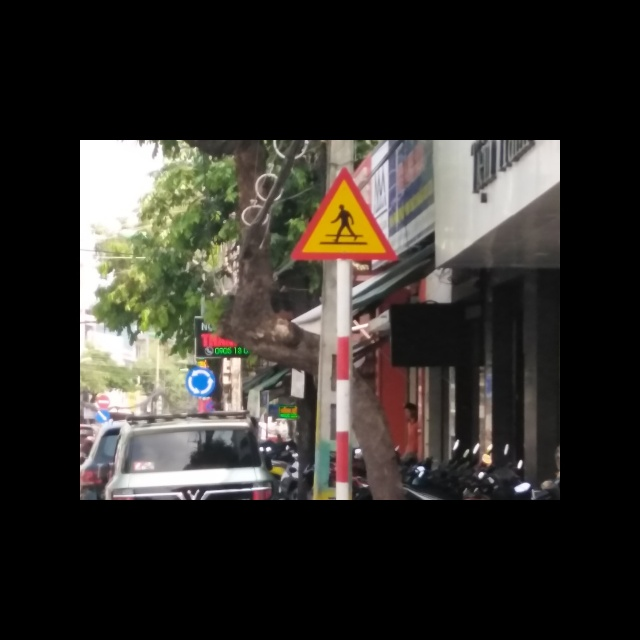Nơi giao nhau chạy theo vòng xuyến: (183, 365, 216, 397)
Đường người đi bộ sang đường: (291, 167, 401, 260)
